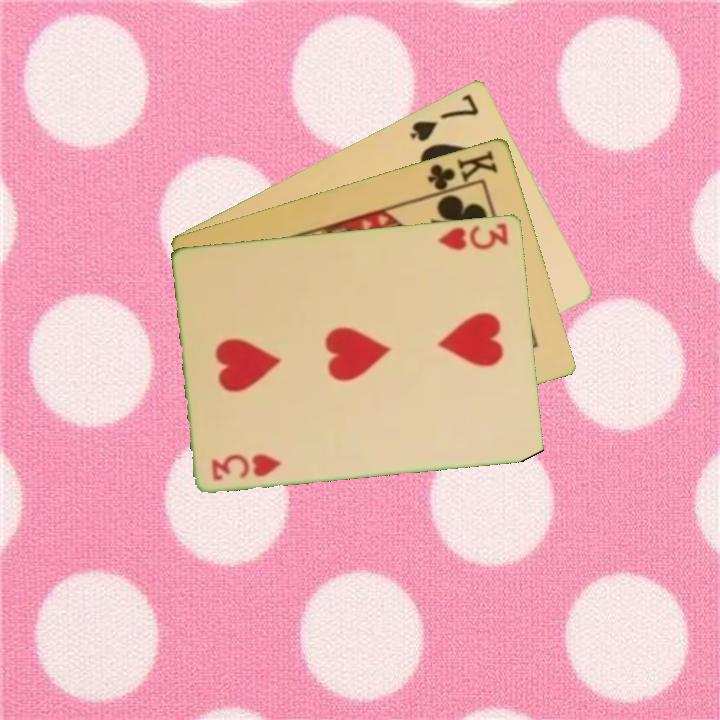3h: (434, 218, 512, 253), (208, 449, 285, 483)
7s: (406, 90, 482, 144)
Kc: (424, 146, 501, 198)
